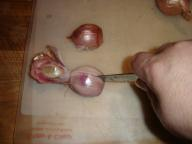onion: (29, 43, 66, 84), (67, 63, 106, 98), (66, 23, 104, 51)
